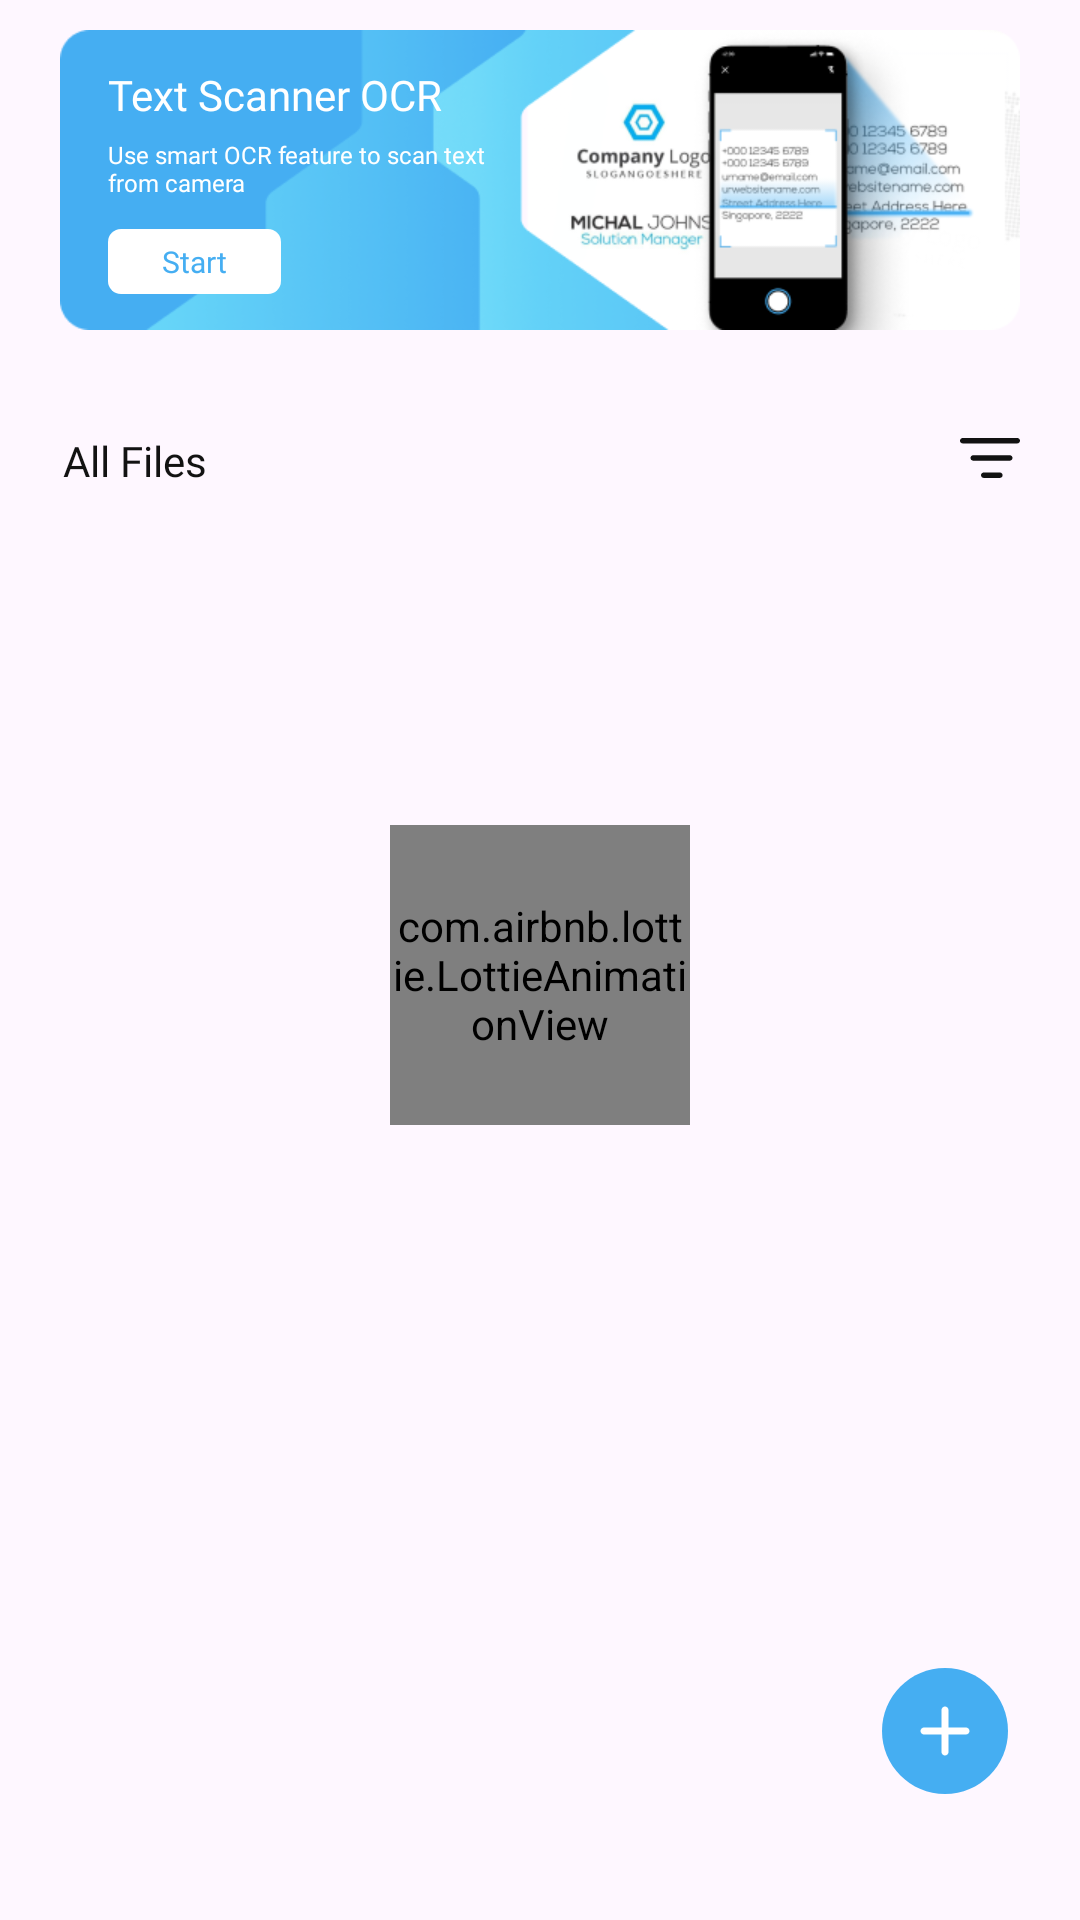

Locate icon controls on the screen. Image size 1080 x 1920, boxes as (x1, y1, x2, y2).
imv plus: (882, 1668, 1008, 1794)
sort: (960, 438, 1020, 478)
